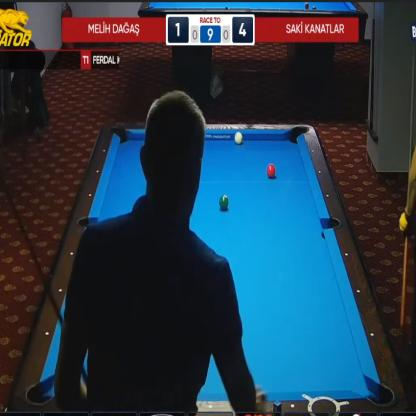Ball: (219, 194, 229, 210), (266, 164, 276, 178), (234, 131, 243, 145)
